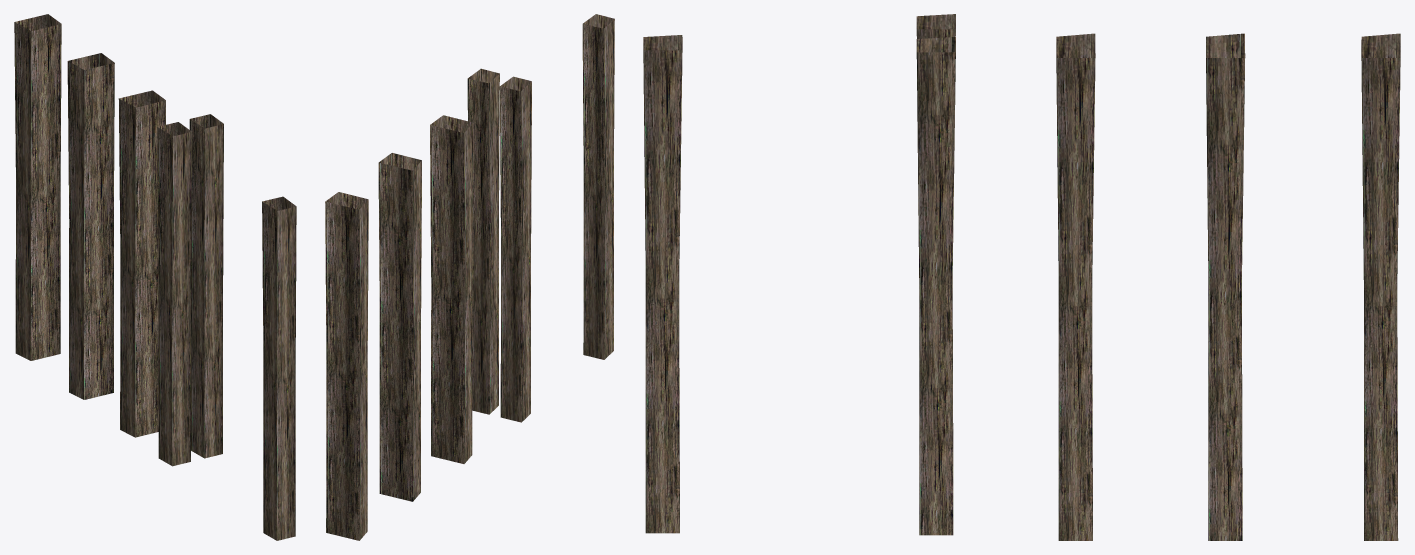
The model's file is LAKETOWN_WAREHOUSE3_PS_WH3_ROTBEAMS_993838.fbx.
3 views of the same model, side by side, from view 1: azimuth 30°, elevation 25°; view 2: azimuth 150°, elevation 25°; view 3: azimuth 270°, elevation 25° (orthographic). The views are drawn at different scales.
Visible parts, largest first — view 1: LAKETOWN_WAREHOUSE3_PS_WH3_ROTBEAMS_993838; view 2: LAKETOWN_WAREHOUSE3_PS_WH3_ROTBEAMS_993838; view 3: LAKETOWN_WAREHOUSE3_PS_WH3_ROTBEAMS_993838.
Part boxes in pixels (box(x1,y1,x2,y2)): LAKETOWN_WAREHOUSE3_PS_WH3_ROTBEAMS_993838: box(14, 14, 296, 540); LAKETOWN_WAREHOUSE3_PS_WH3_ROTBEAMS_993838: box(325, 14, 614, 540); LAKETOWN_WAREHOUSE3_PS_WH3_ROTBEAMS_993838: box(643, 14, 1400, 540).
Size of the model in its own units: 13200 by 80455 by 111235.
Materials: 1 (1 with a texture image).
